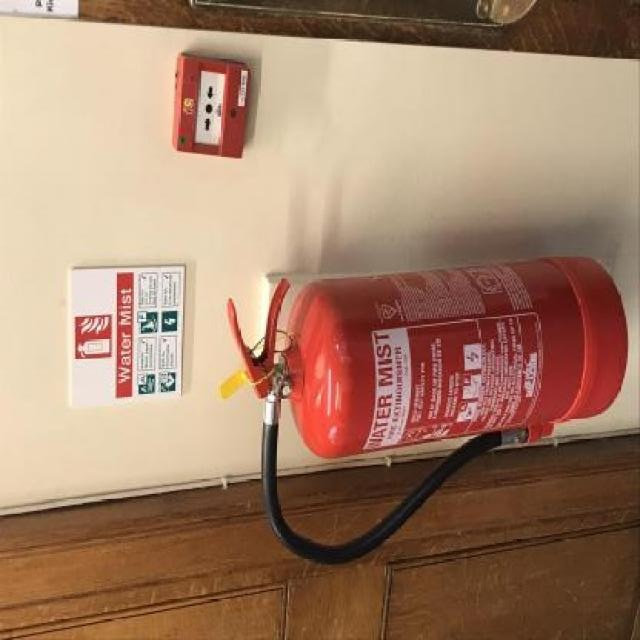fire extinguisher: (221, 253, 628, 547)
